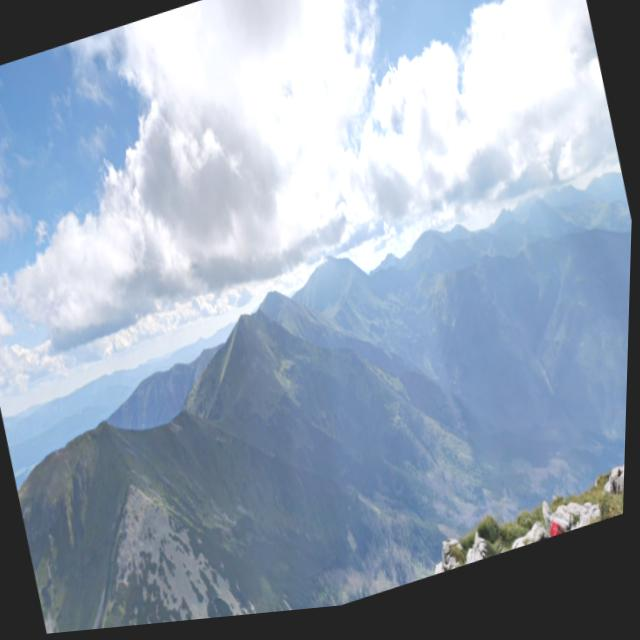Bystra: (280, 193, 371, 315)
Polska Tomanova: (6, 316, 194, 539)
Smreciny: (200, 251, 287, 377)
Velka Kamenista: (238, 241, 302, 341)
